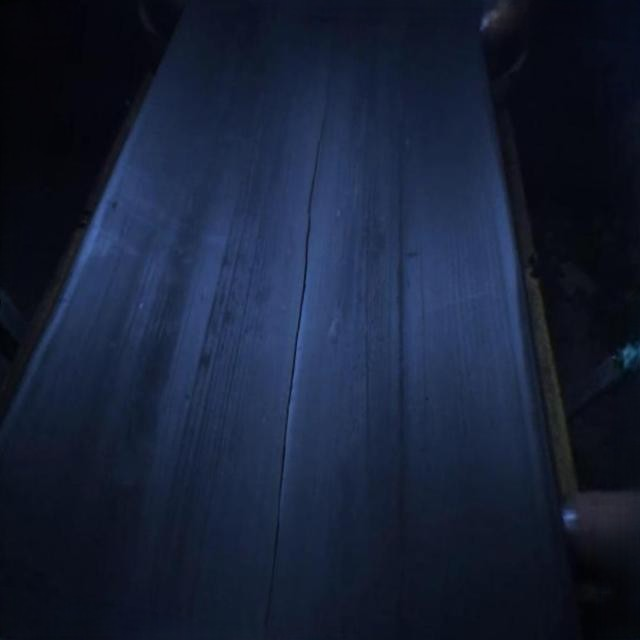Tear: (258, 76, 337, 638)
